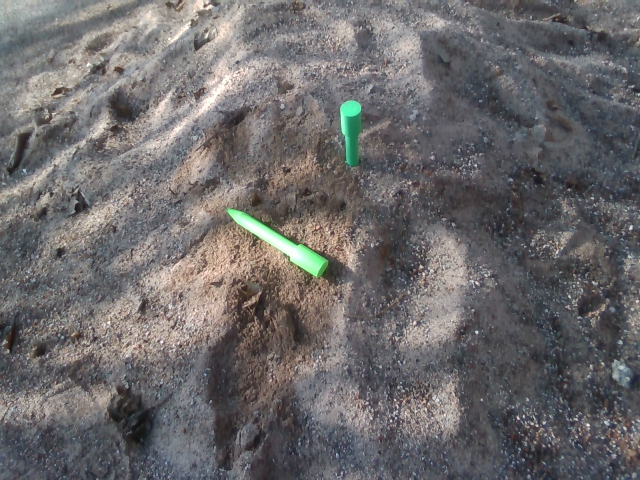Probe: (222, 202, 332, 283), (336, 96, 367, 174)
